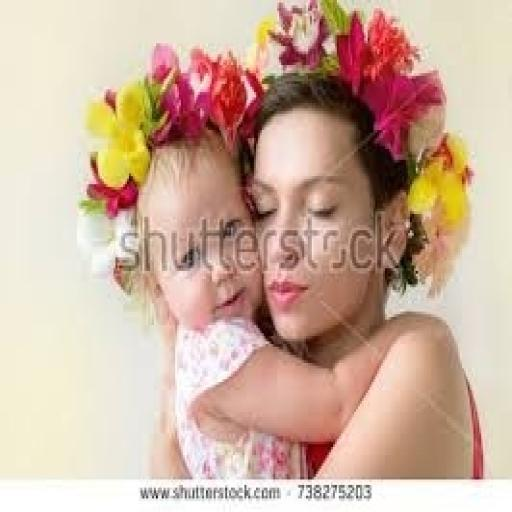hugging: (175, 65, 483, 480)
